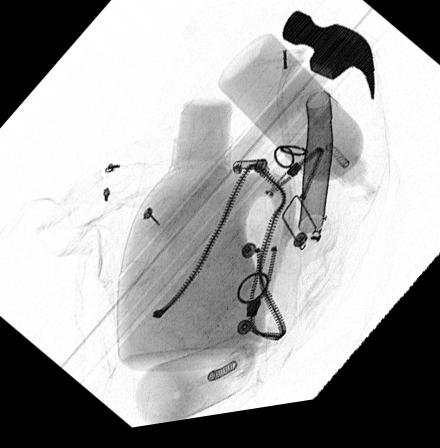Hammer: (148, 17, 375, 257)
